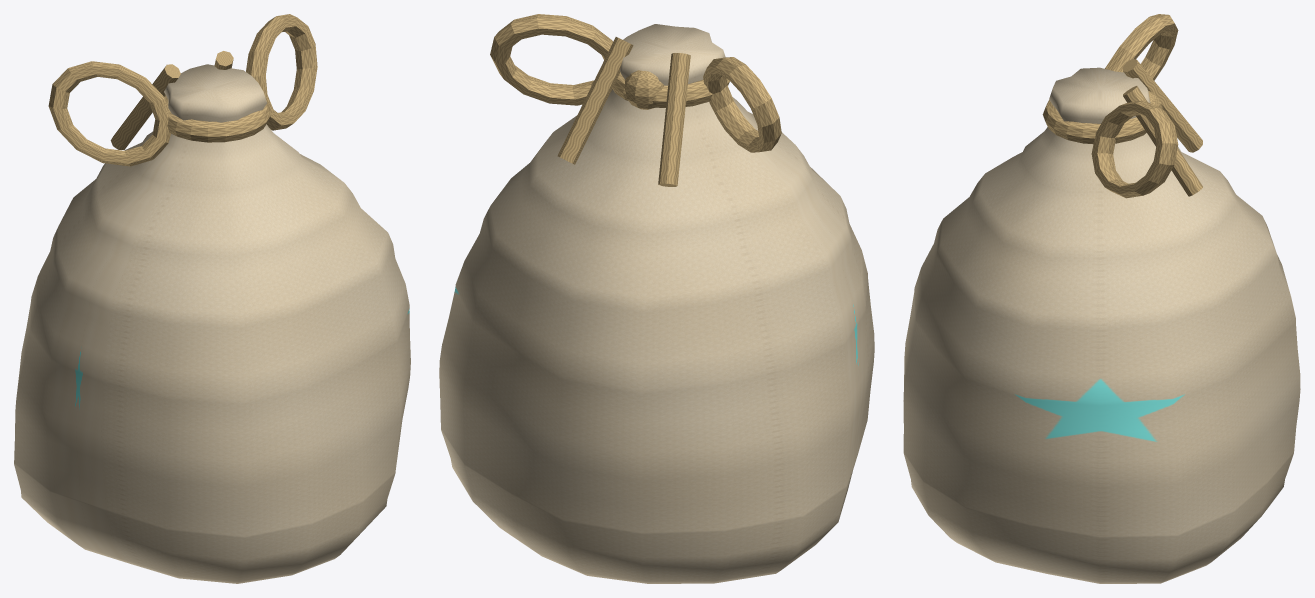
Rendered from Sandbag.fbx.
3 views of the same model, side by side, from view 1: azimuth 30°, elevation 25°; view 2: azimuth 150°, elevation 25°; view 3: azimuth 270°, elevation 25° (orthographic). The views are drawn at different scales.
Parts seen in each view (by area): view 1: CB_BagBody, CB_Drawstring; view 2: CB_BagBody, CB_Drawstring; view 3: CB_BagBody, CB_Drawstring.
Part boxes in pixels (left/top/right/bottom): CB_BagBody: left=14, top=64, right=410, bottom=583; CB_Drawstring: left=48, top=14, right=317, bottom=166; CB_BagBody: left=439, top=24, right=874, bottom=583; CB_Drawstring: left=490, top=14, right=781, bottom=186; CB_BagBody: left=903, top=67, right=1300, bottom=583; CB_Drawstring: left=1042, top=14, right=1202, bottom=198.
Bounding box in the file's own units: 0.1142 × 0.148 × 0.1137.
